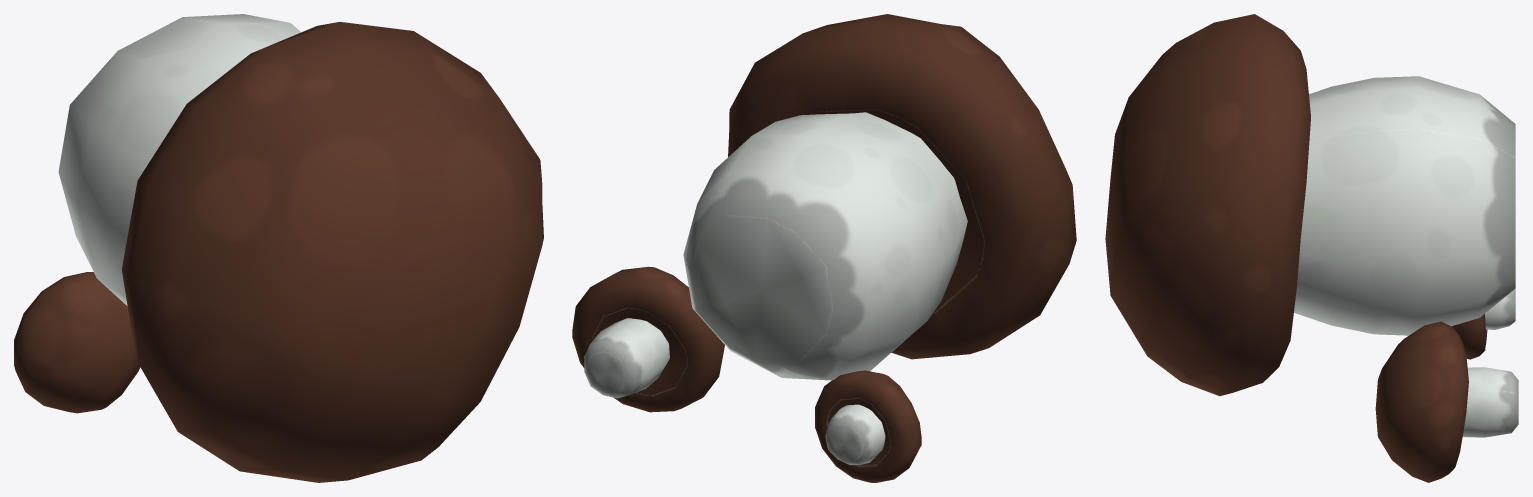
File: mushroom2.glb
3 renders of one model, left to right at view 1: azimuth 30°, elevation 25°; view 2: azimuth 150°, elevation 25°; view 3: azimuth 270°, elevation 25°, orthographic. The views are drawn at different scales.
Visible parts, largest first — view 1: 5.001_Cube.001; view 2: 5.001_Cube.001; view 3: 5.001_Cube.001.
Part boxes in pixels (x1=…): 5.001_Cube.001: x1=14, y1=14, x2=543, y2=482; 5.001_Cube.001: x1=572, y1=14, x2=1076, y2=482; 5.001_Cube.001: x1=1105, y1=14, x2=1518, y2=482.
Bounding box in the file's own units: 1.39 × 1.24 × 1.27.
Materials: 1 (1 with a texture image).
